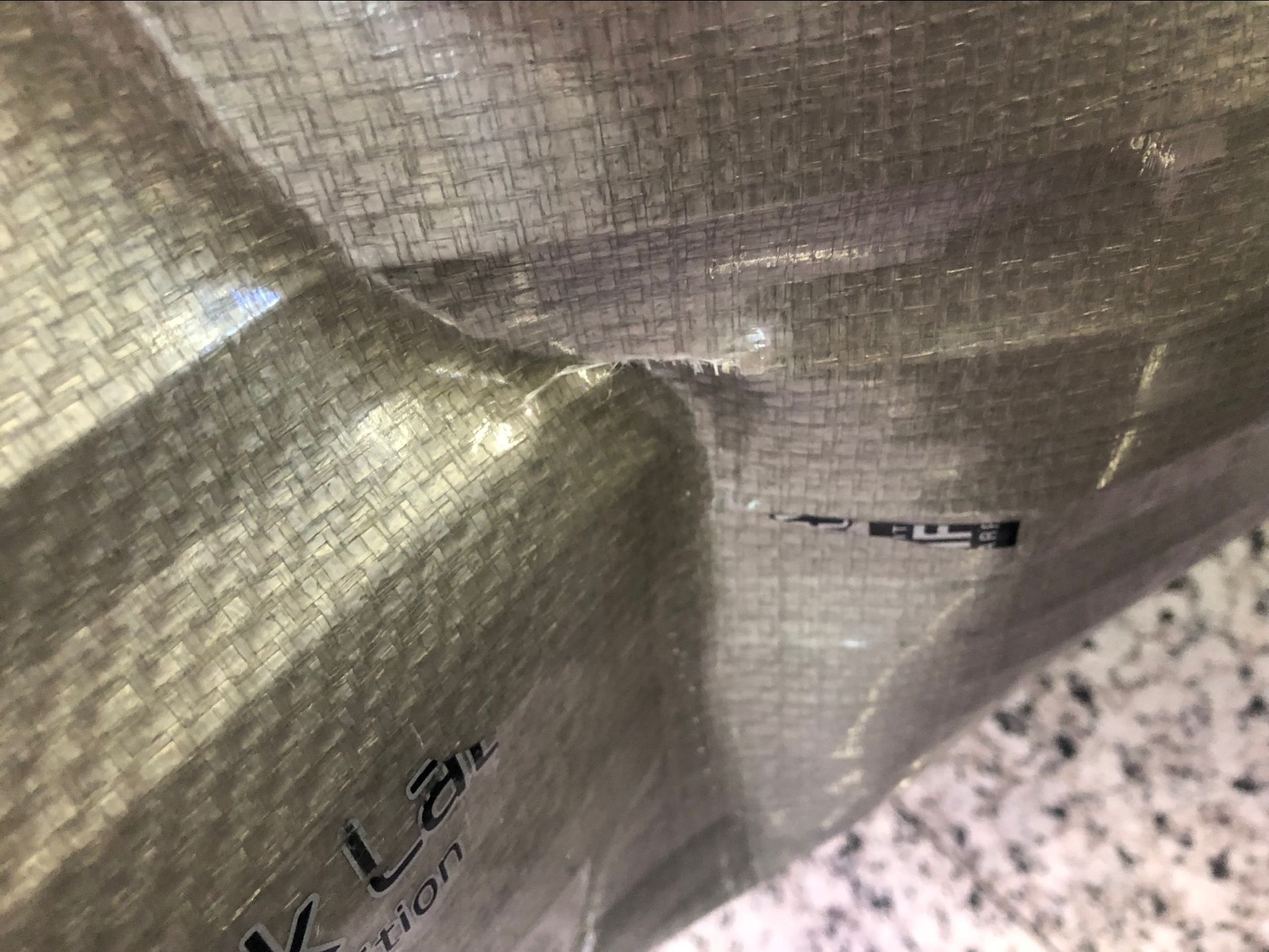rupture: (44, 1, 993, 952)
